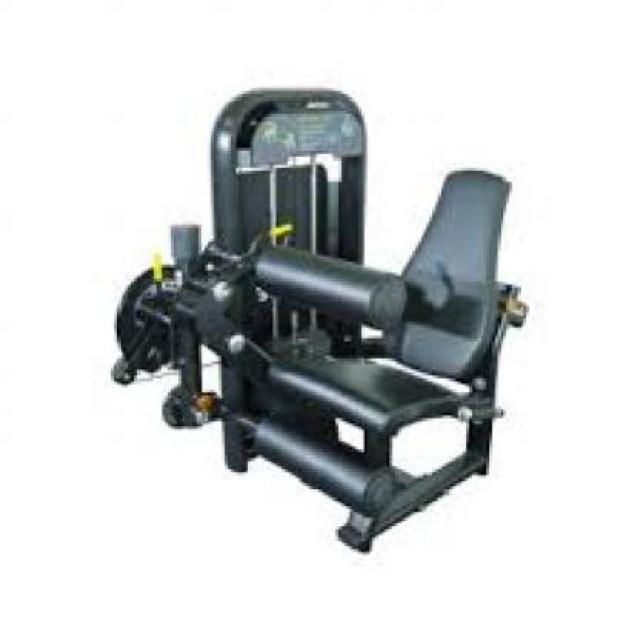leg extension: (97, 80, 537, 563)
